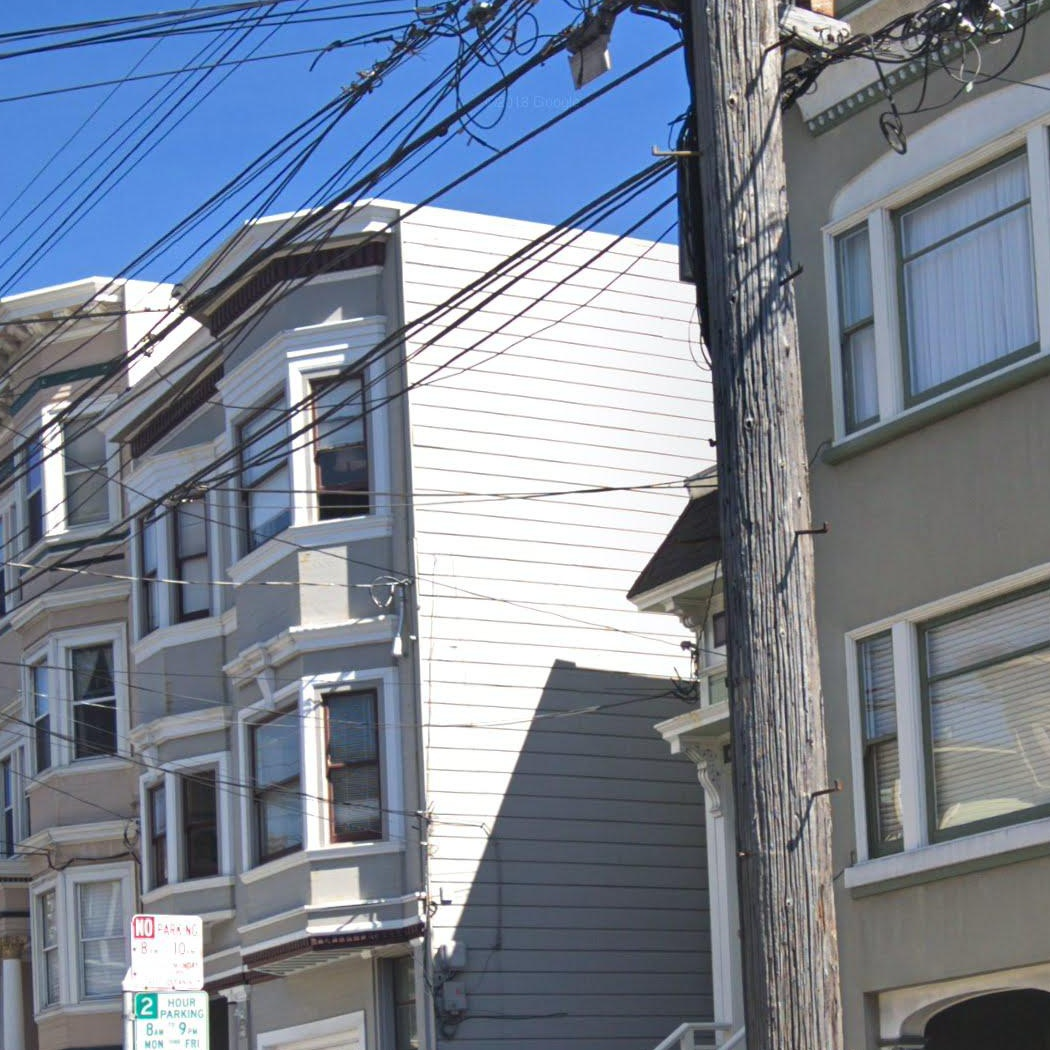2 Hour Parking: (130, 992, 209, 1050)
No Parking: (128, 912, 206, 989)
